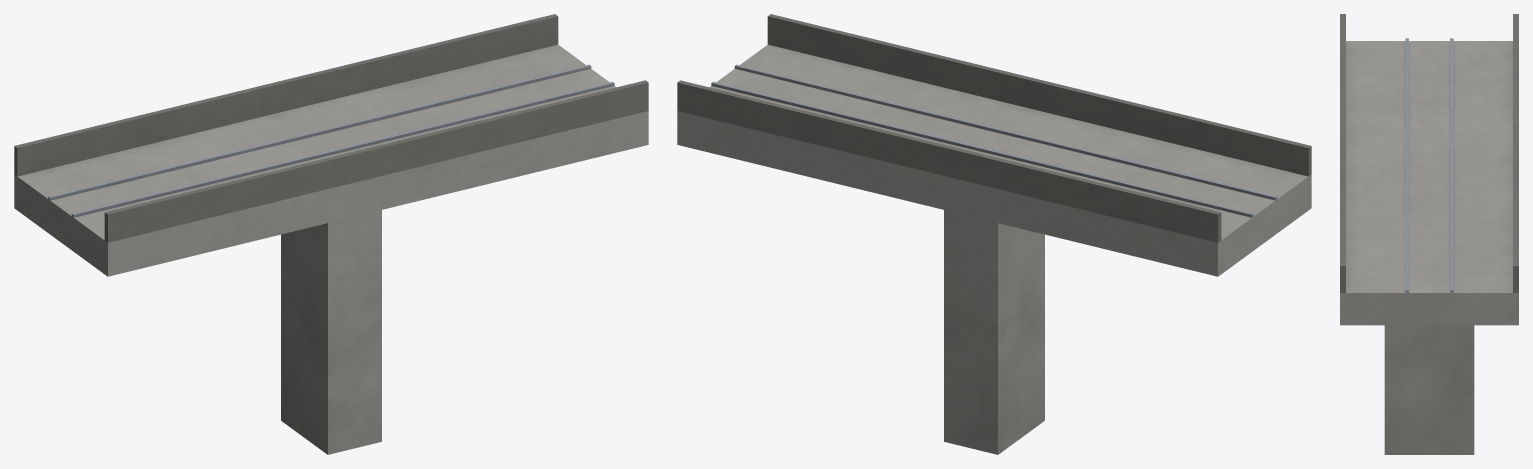
File: viadukt_tex.glb
3 views of the same model, side by side, from view 1: azimuth 30°, elevation 25°; view 2: azimuth 150°, elevation 25°; view 3: azimuth 270°, elevation 25° (orthographic). The views are drawn at different scales.
Parts seen in each view (by area): view 1: viadukt; view 2: viadukt; view 3: viadukt.
Boxes of the visible parts, x1=… form: viadukt: x1=14, y1=14, x2=648, y2=454; viadukt: x1=677, y1=14, x2=1311, y2=454; viadukt: x1=1340, y1=14, x2=1518, y2=454.
Bounding box in the file's own units: 20 × 11.2 × 6.
Materials: 3 (3 with a texture image).
